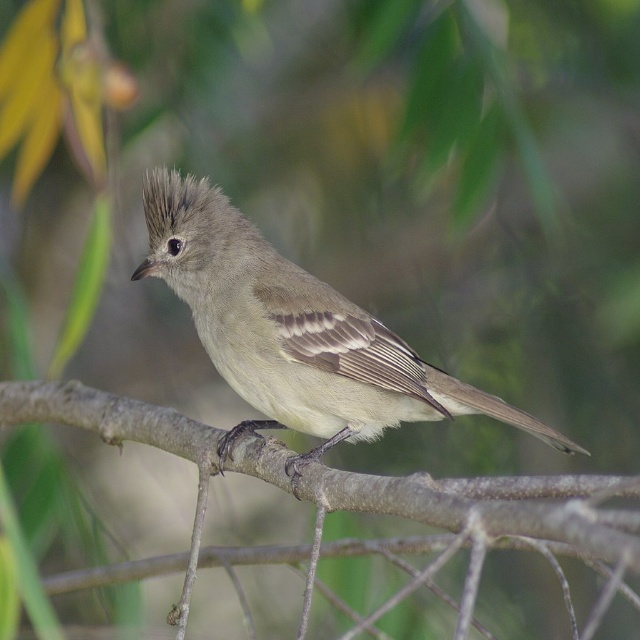Sparrow: (128, 164, 594, 476)
